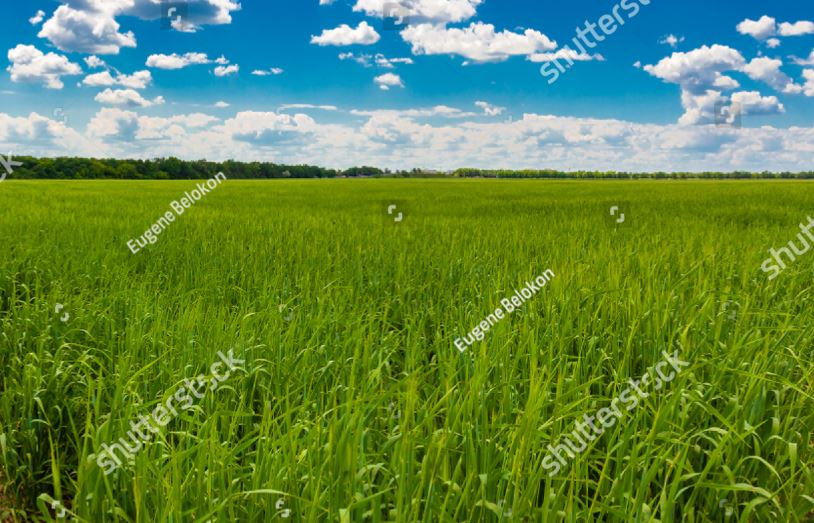Wheat: (145, 274, 532, 494)
